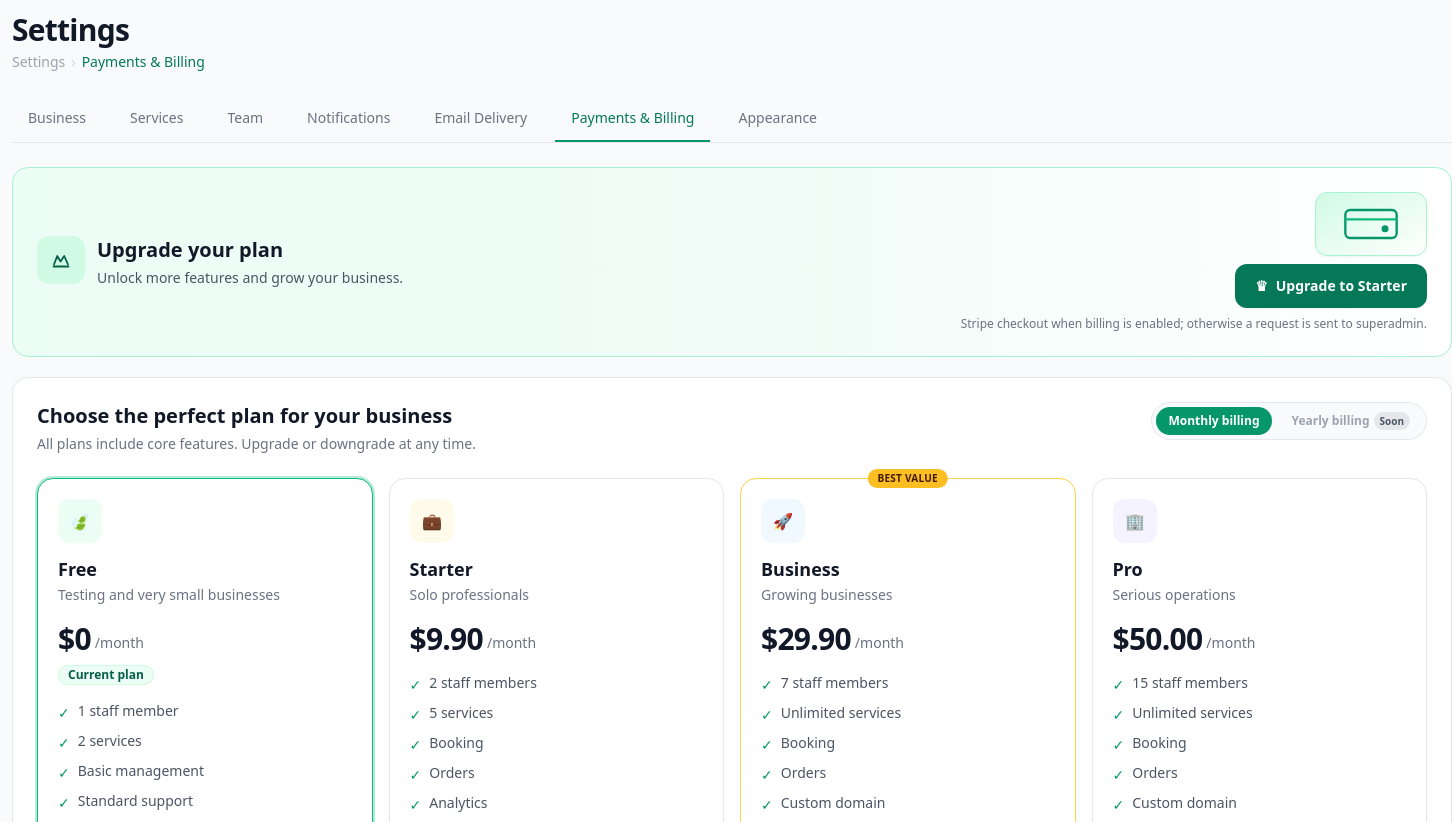
admin billing checkout › A. admin settings renders payments & billing redesign
The image size is (1452, 822).
Click the button with test id "admin-settings-tab-appearance": (778, 119) [722,96,833,142]
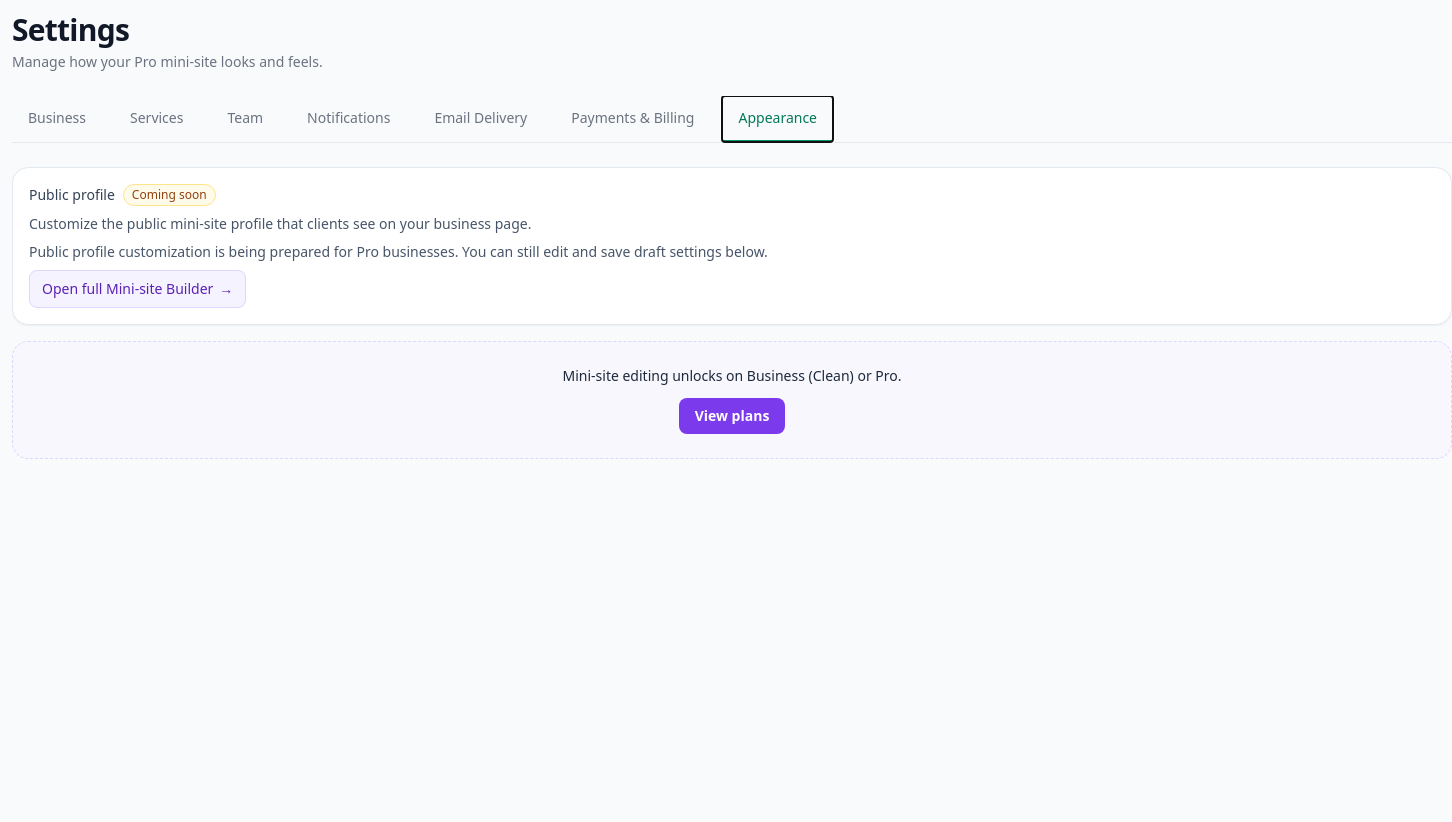
Result: the heading "Public profile" is shown at [29,185,115,205]
